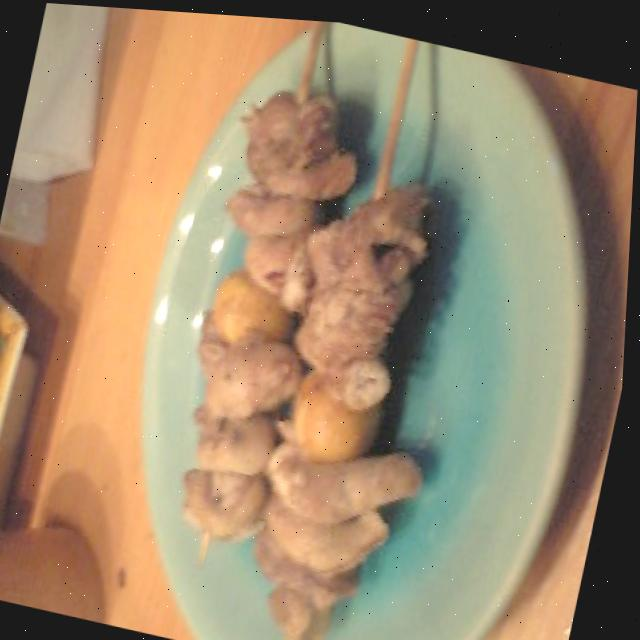烧串烤肉: (130, 8, 526, 640)
